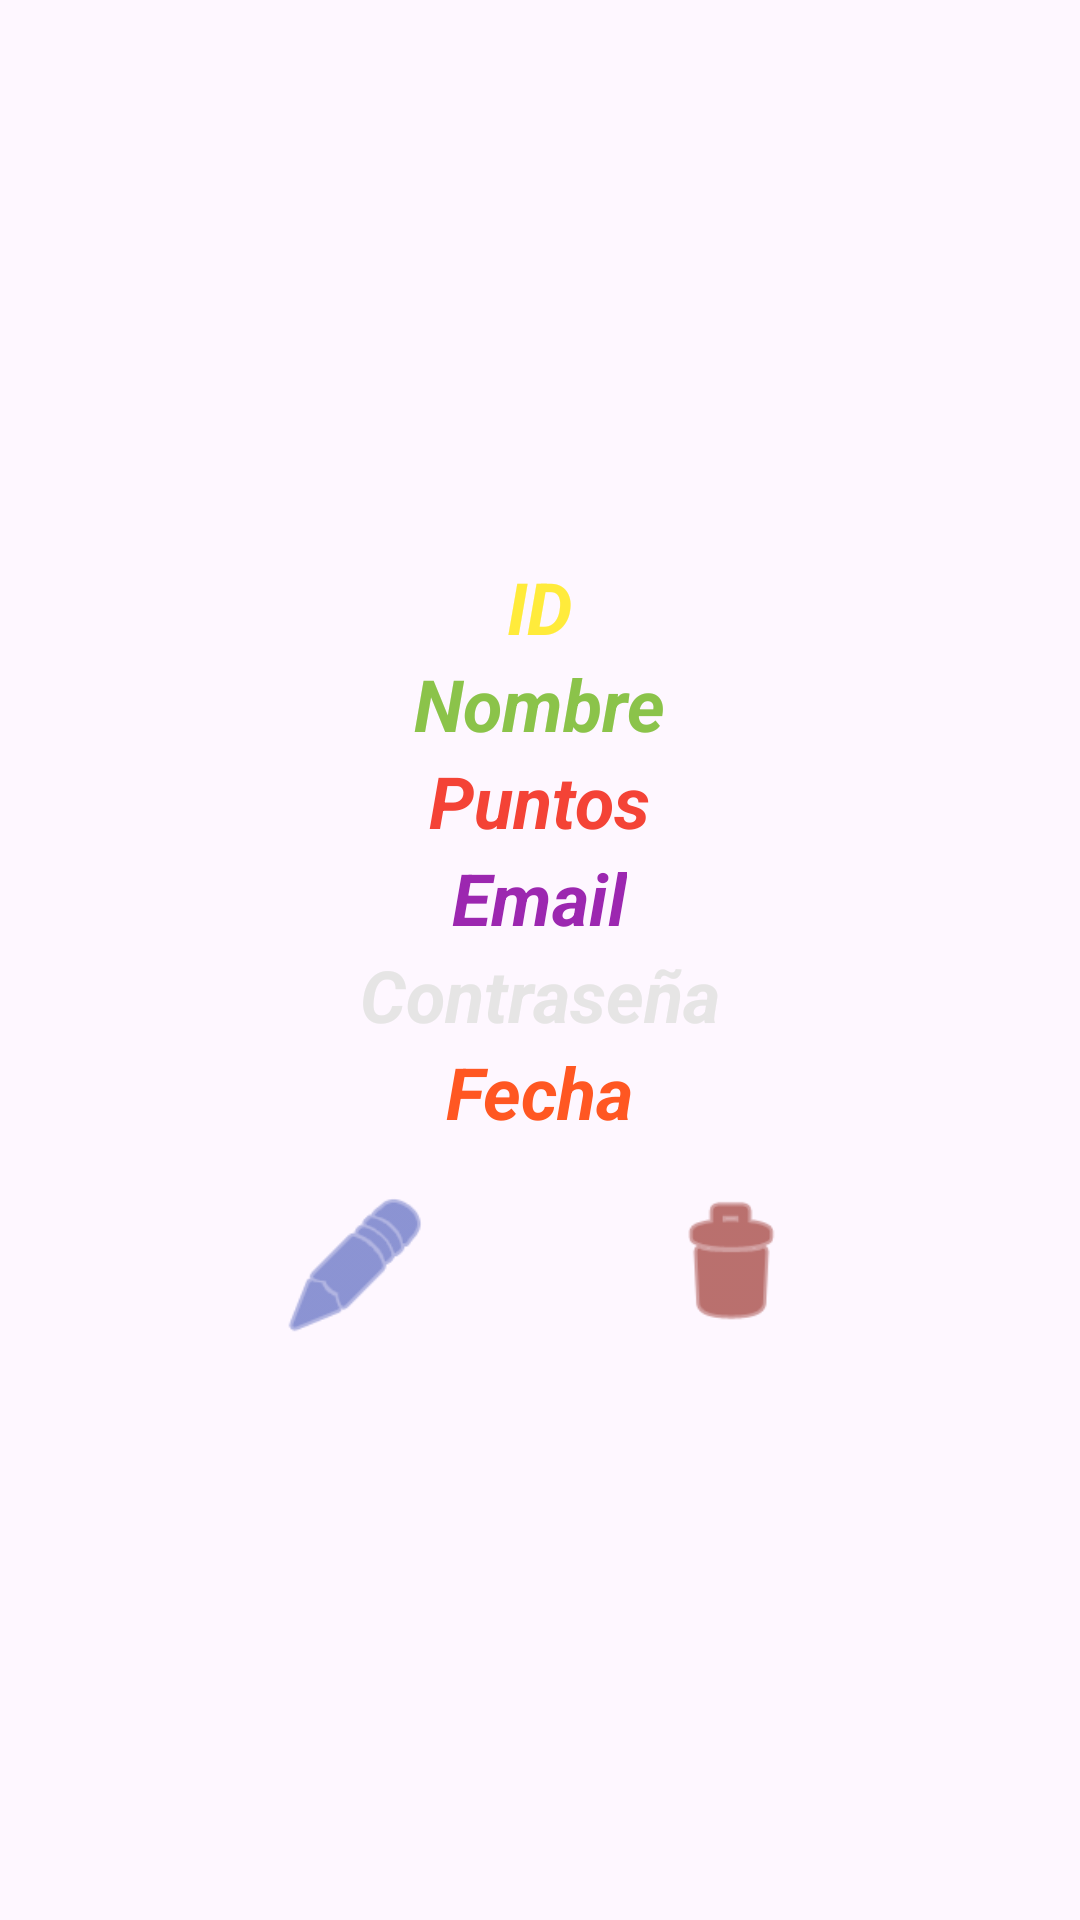

Where to tap for icons on this 1080px×1920px app screen, as point (x, y):
delete: point (731, 1260)
edit: point (355, 1265)
